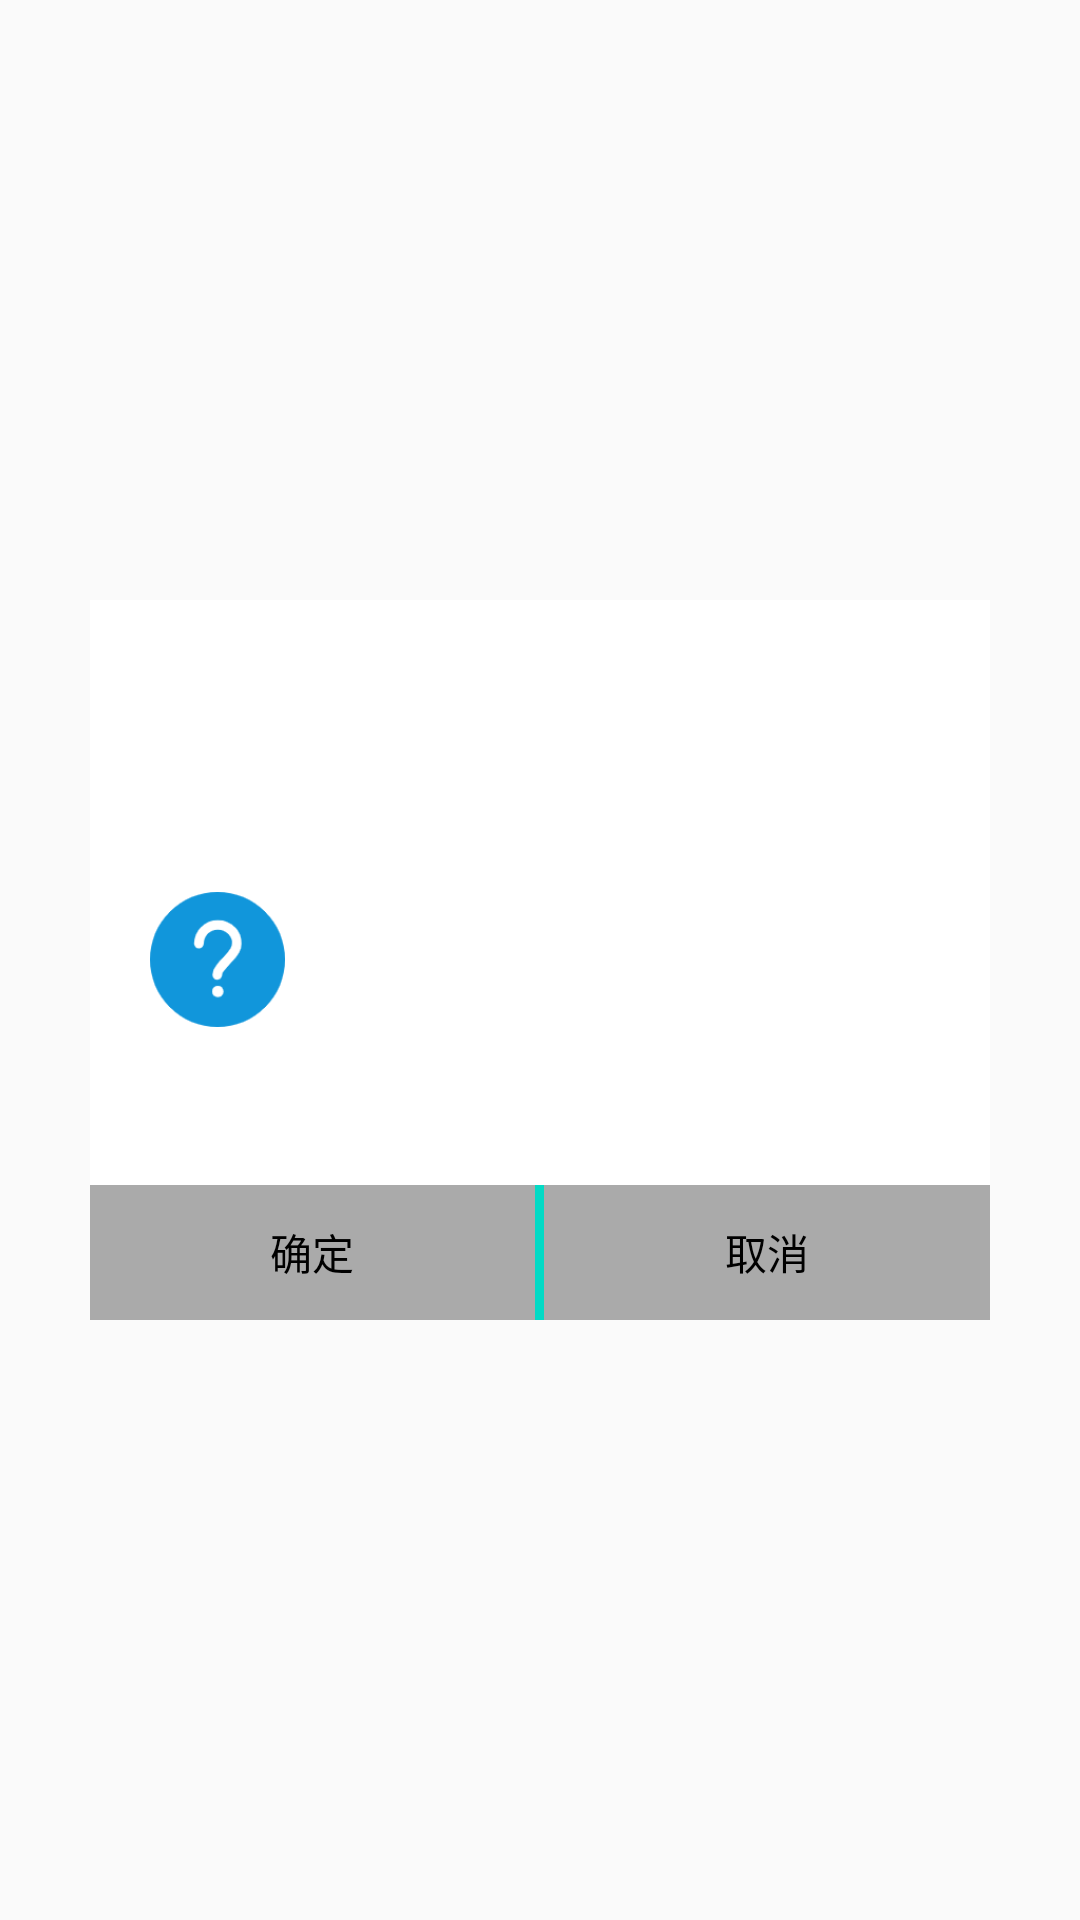

Where icons sit on this 1080×1920 app screen, as (x1, y1, x2, y2):
question: (150, 892, 285, 1027)
